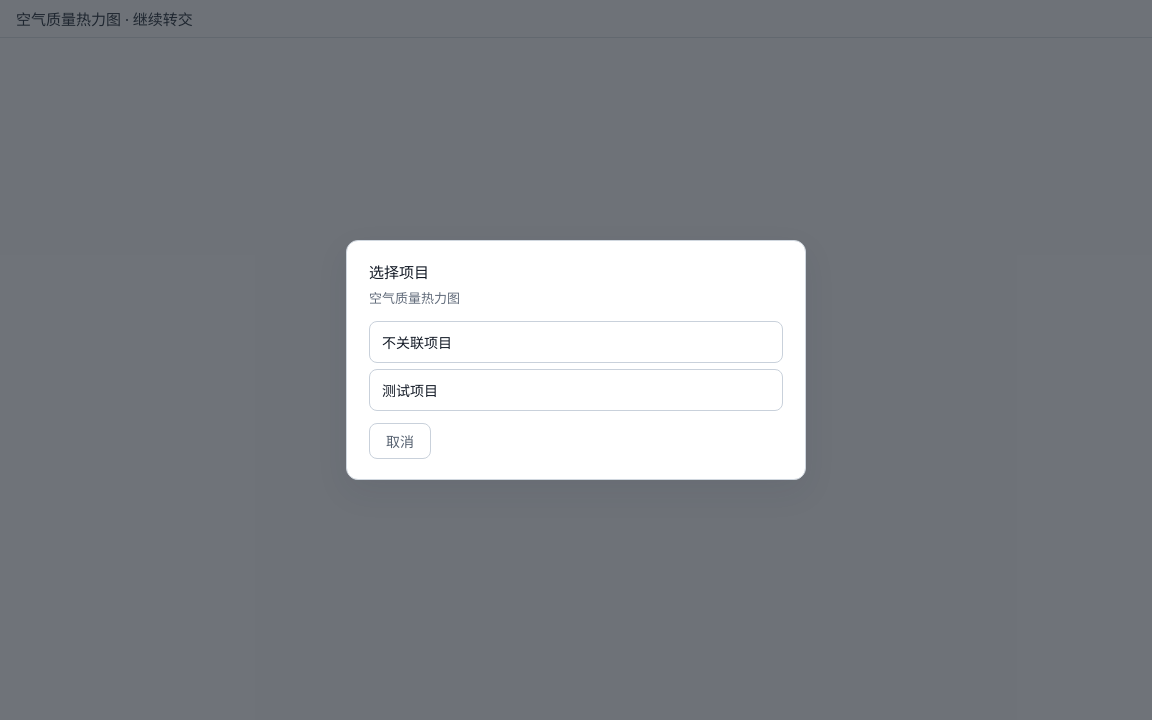
取消不创建对话，保留其他转交
What coordinates should you click on to do the following:
click the button "取消"
I would click on:
 (400, 441)
Its box is [369,423,431,459].
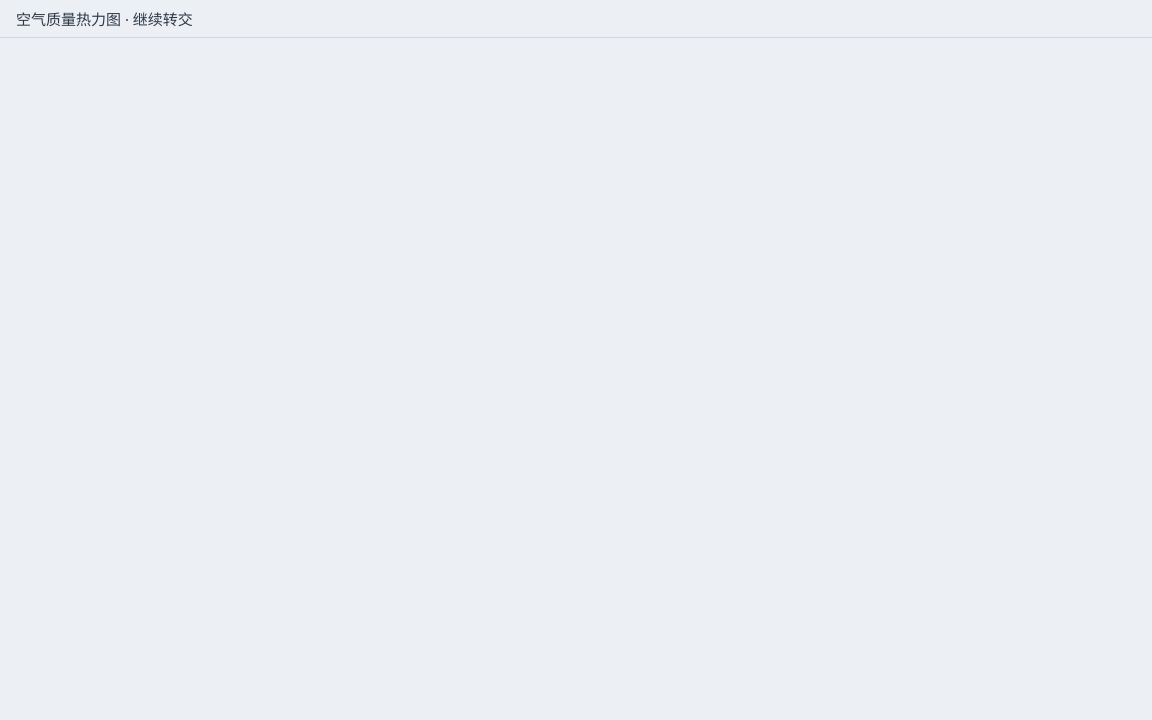
Check: the dialog is gone
